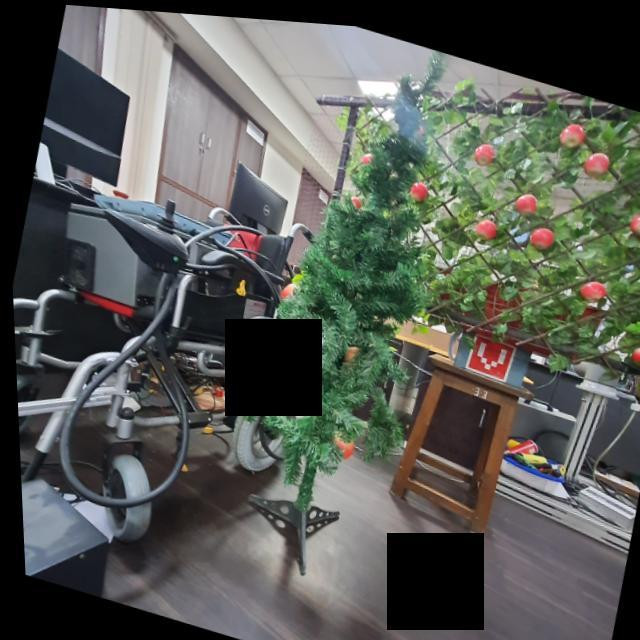Tree: (212, 37, 482, 569)
